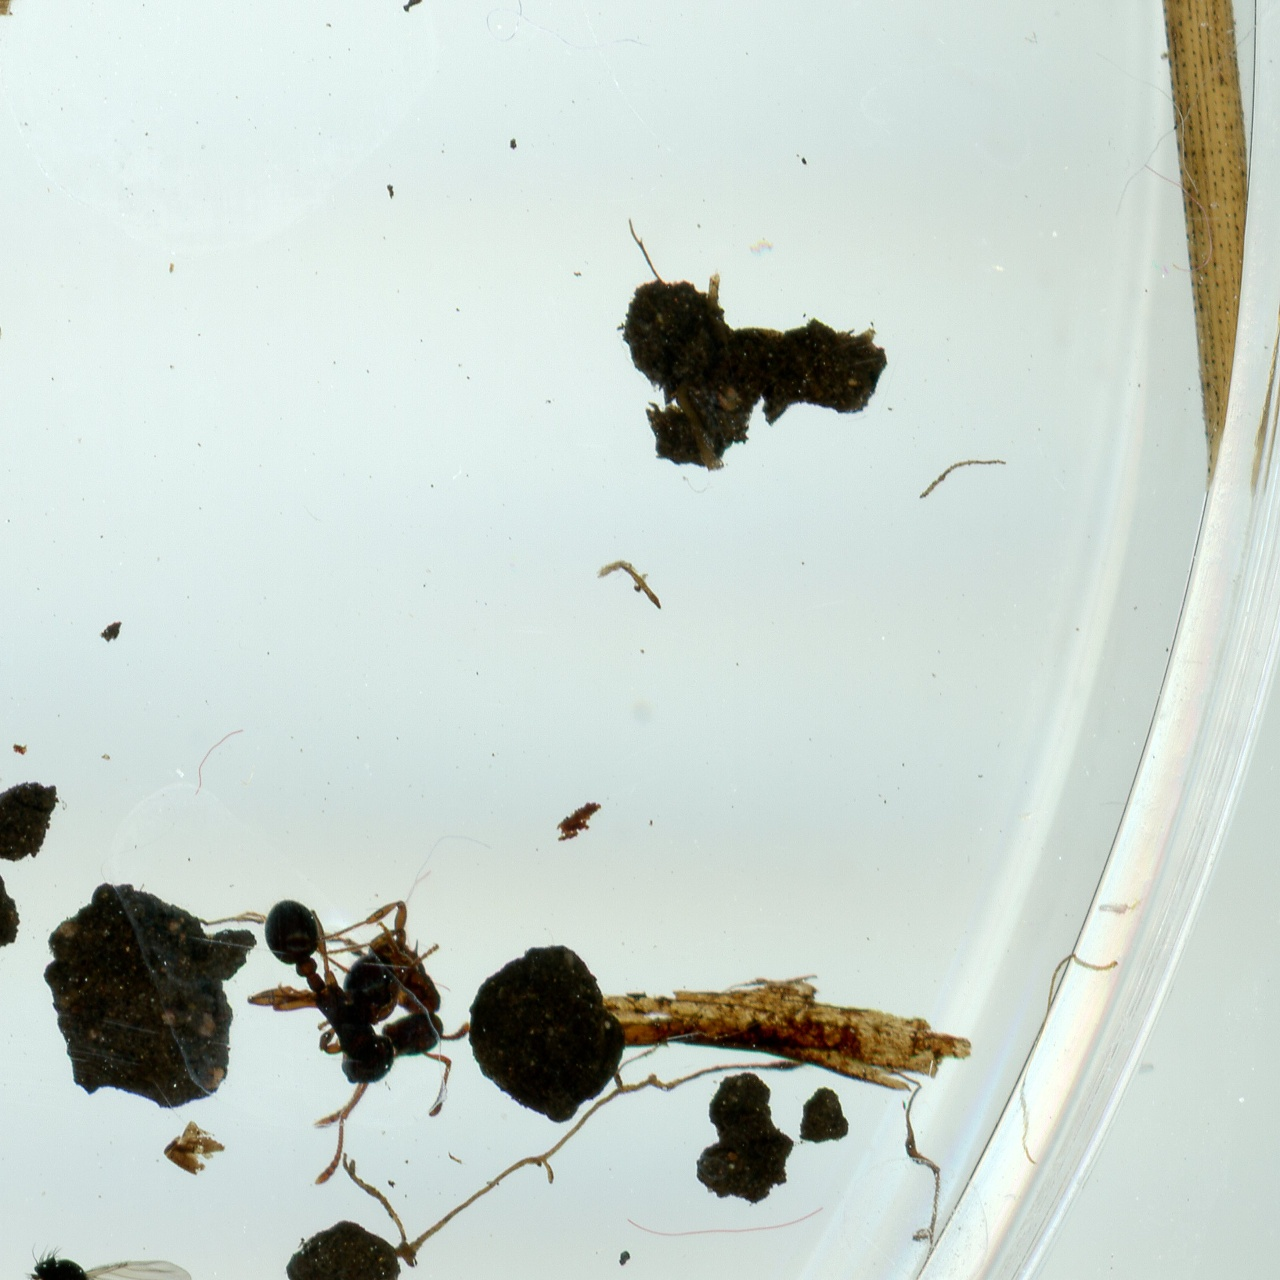arthropod: (192, 811, 520, 1177), (183, 876, 451, 1196), (8, 1237, 197, 1280)
